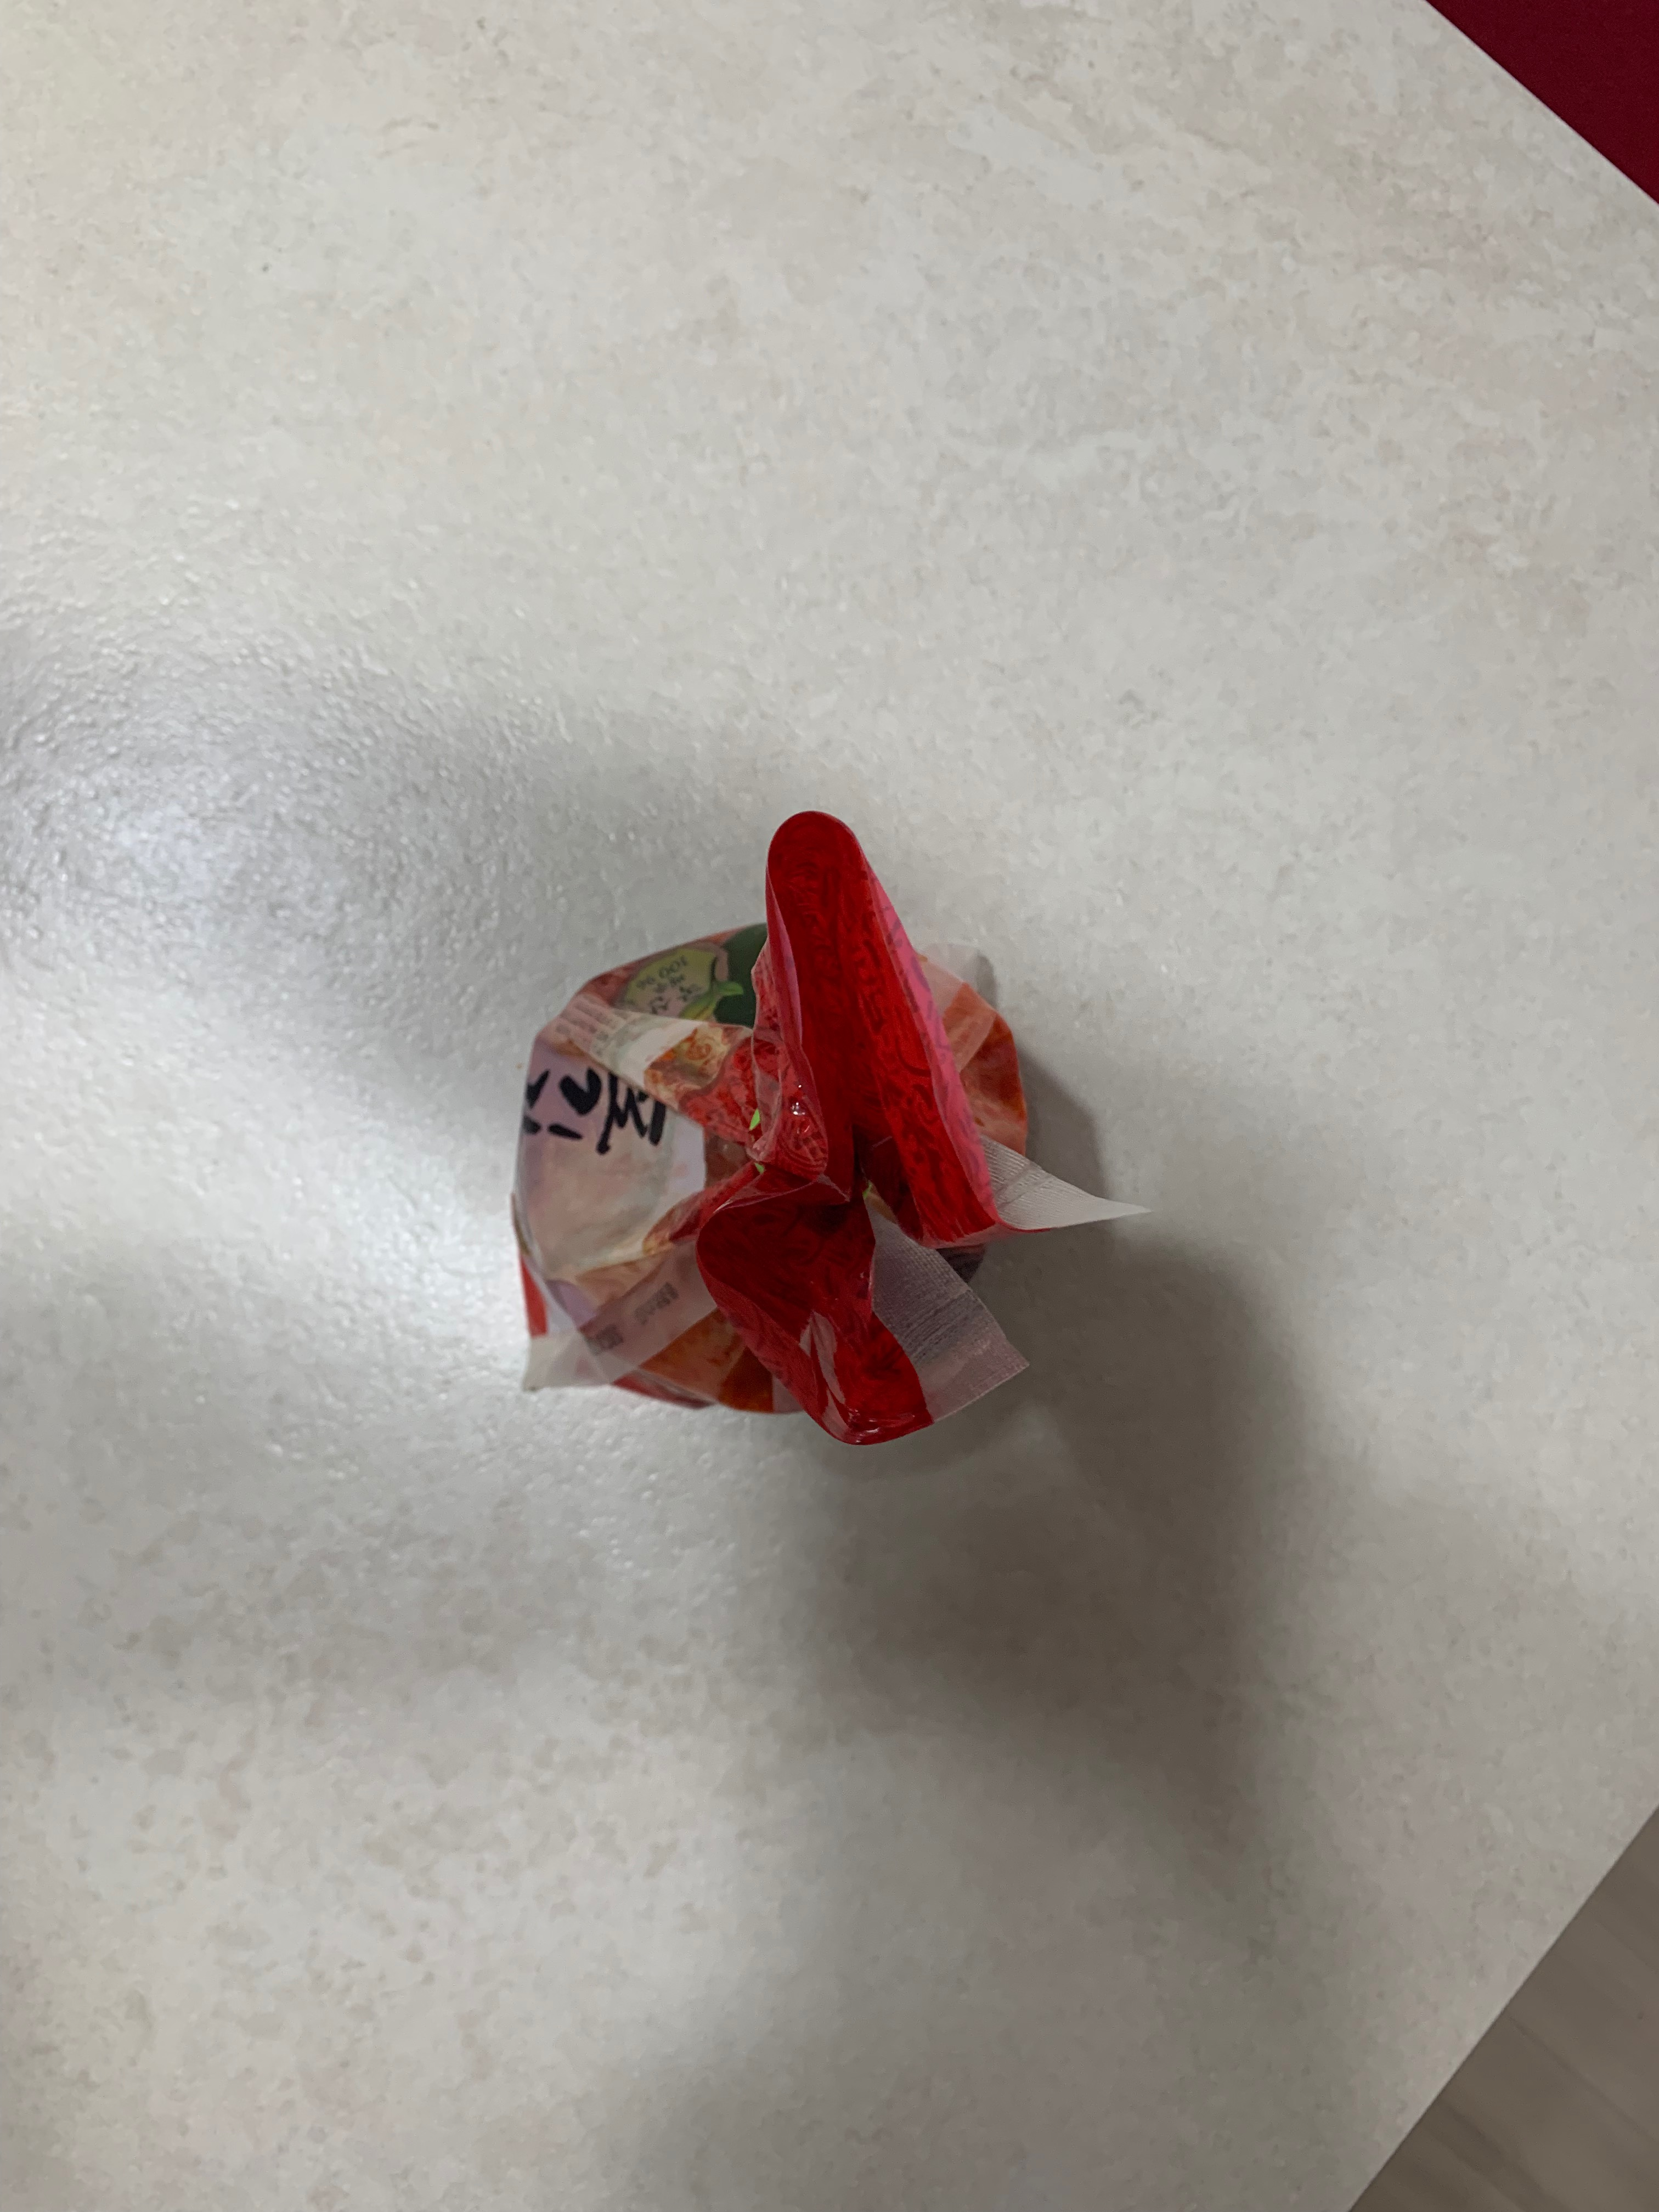kimchi: (511, 812, 1032, 1444)
